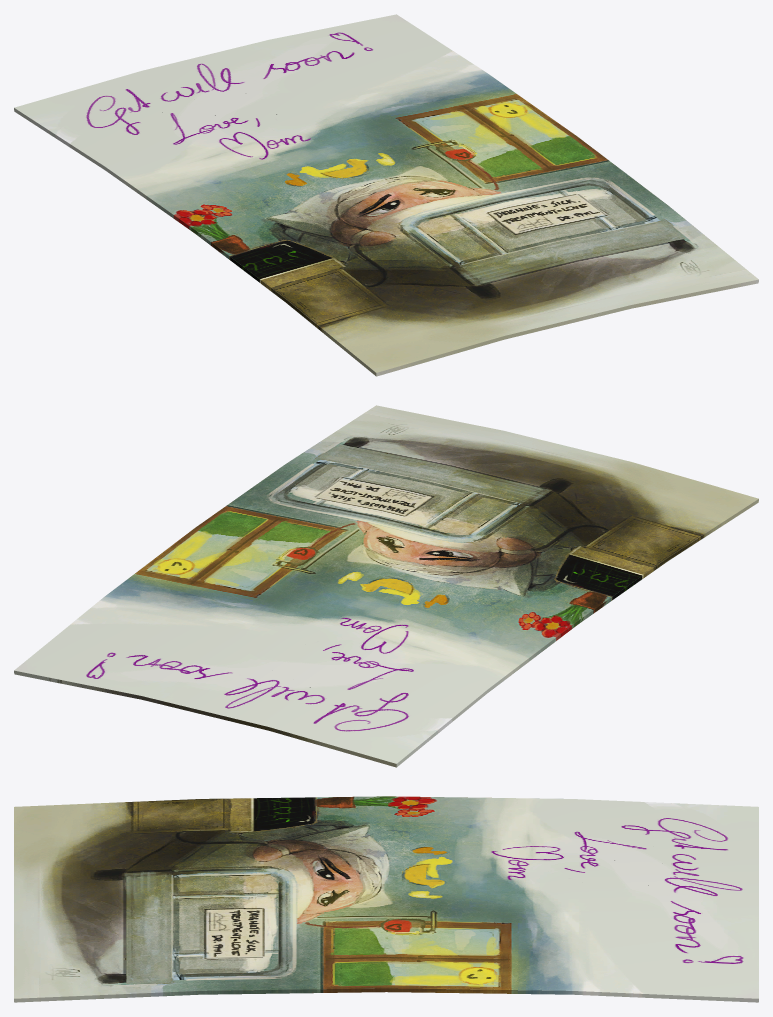
The model's file is 00_05_get_well_card.dae.
3 renders of one model, top to bottom at view 1: azimuth 30°, elevation 25°; view 2: azimuth 150°, elevation 25°; view 3: azimuth 270°, elevation 25°, orthographic. The views are drawn at different scales.
Parts seen in each view (by area): view 1: pPlane1; view 2: pPlane1; view 3: pPlane1.
Boxes of the visible parts, <box> form: pPlane1: <box>14,14,758,376</box>; pPlane1: <box>14,405,758,767</box>; pPlane1: <box>14,796,758,1002</box>.
Bounding box in the file's own units: 0.1281 × 0.00659 × 0.2101.
